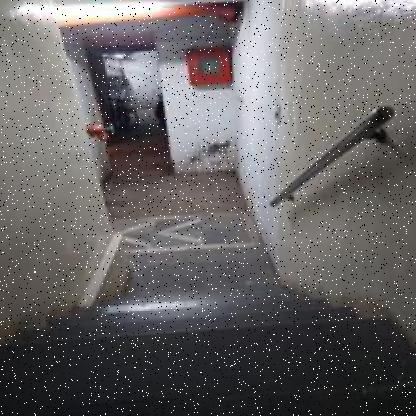stair_down: (70, 277, 337, 369)
